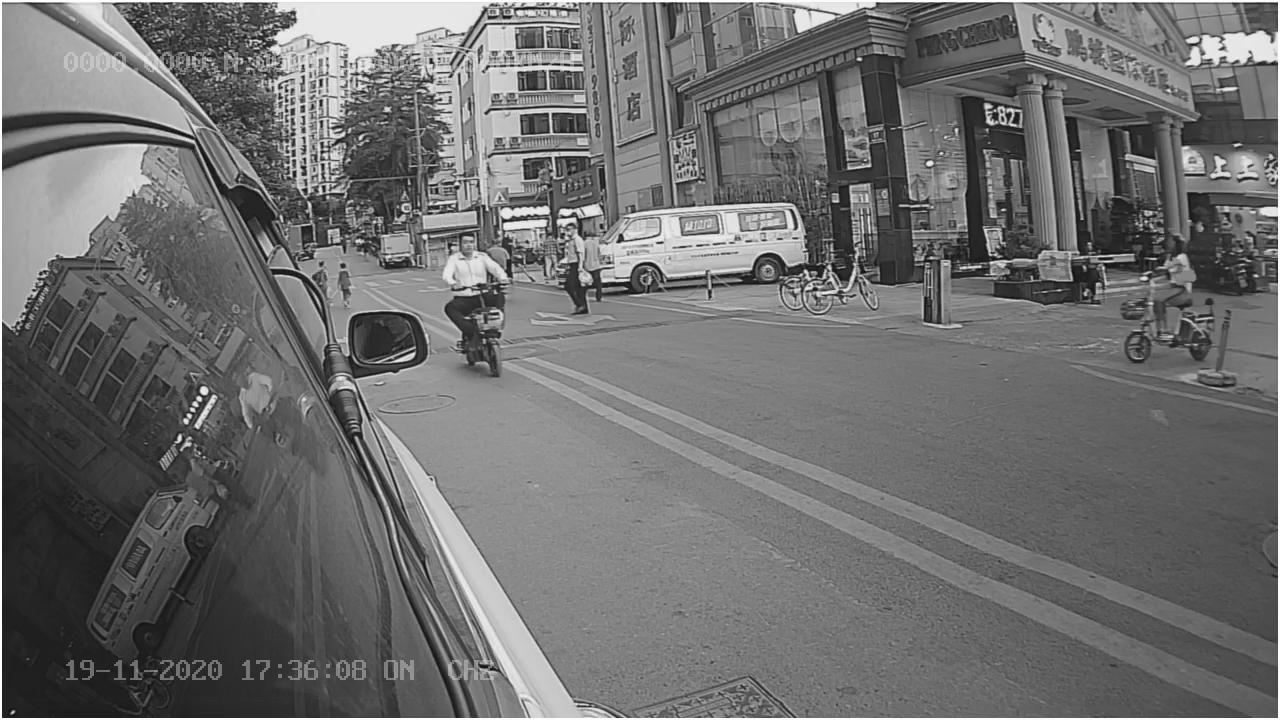person: (440, 225, 508, 287)
